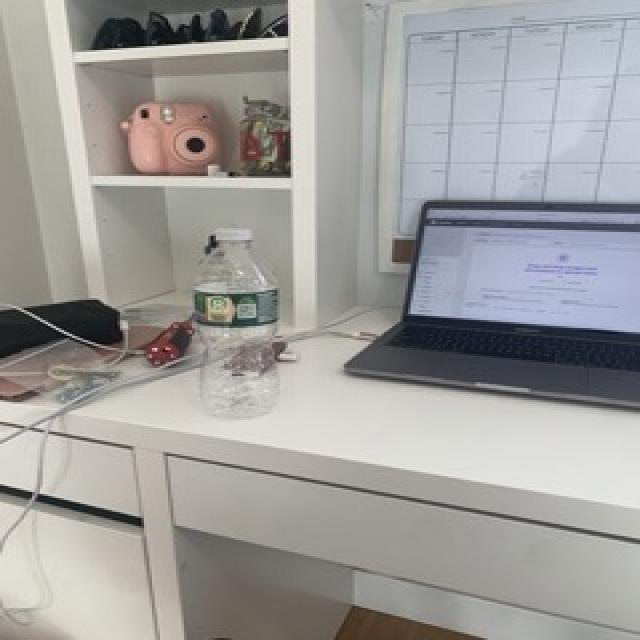water_bottle: (183, 223, 290, 422)
